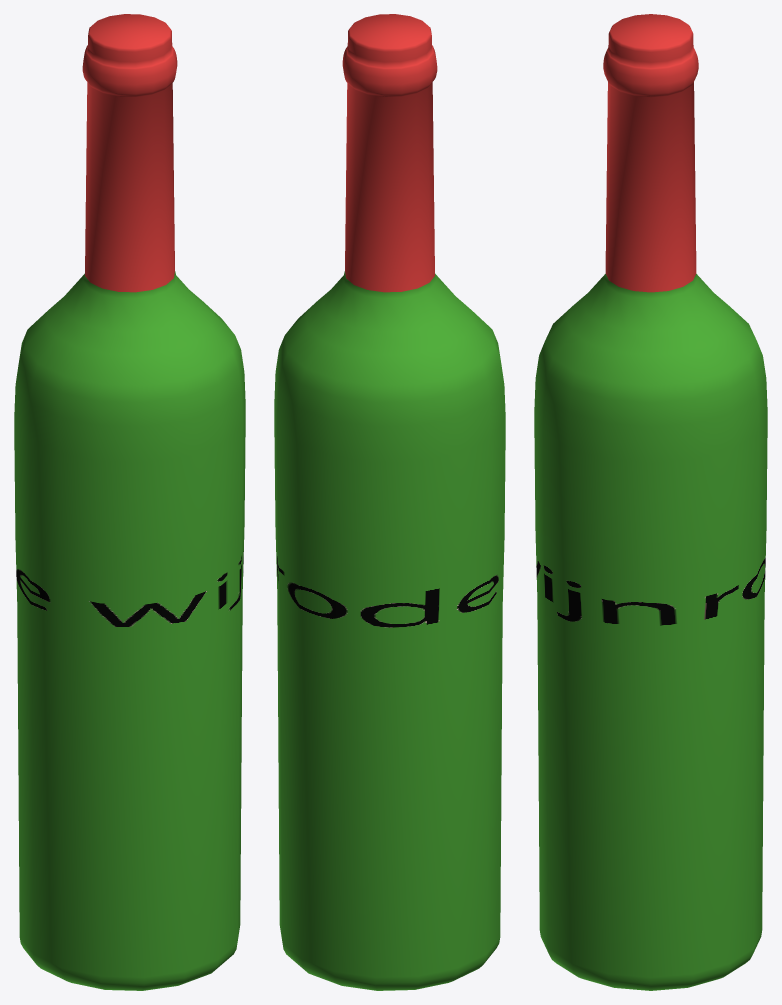
File: wine.fbx
3 renders of one model, left to right at view 1: azimuth 30°, elevation 25°; view 2: azimuth 150°, elevation 25°; view 3: azimuth 270°, elevation 25°, orthographic.
Parts seen in each view (by area): view 1: BezierCurve; view 2: BezierCurve; view 3: BezierCurve.
Boxes of the visible parts, x1,y1,x2,y2 form: BezierCurve: [14, 14, 245, 990]; BezierCurve: [274, 14, 505, 990]; BezierCurve: [534, 14, 767, 990].
Bounding box in the file's own units: 16.06 × 69.91 × 16.06.
Materials: 3 (1 with a texture image).
